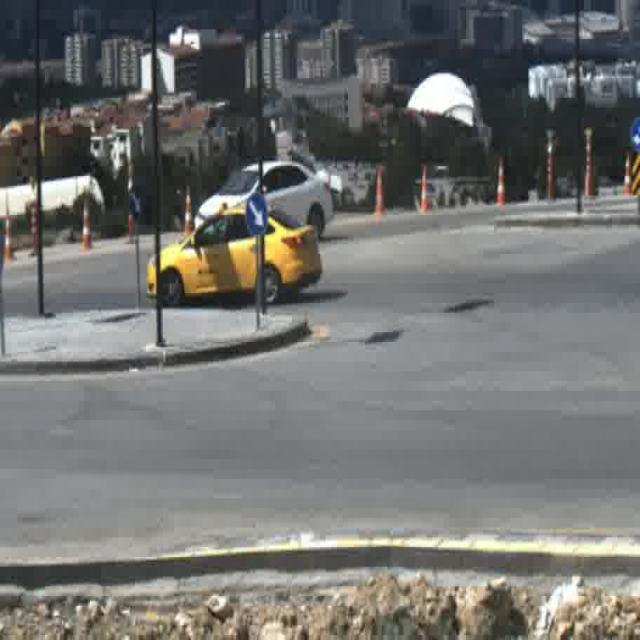Car: (146, 210, 322, 307), (193, 160, 335, 238)
